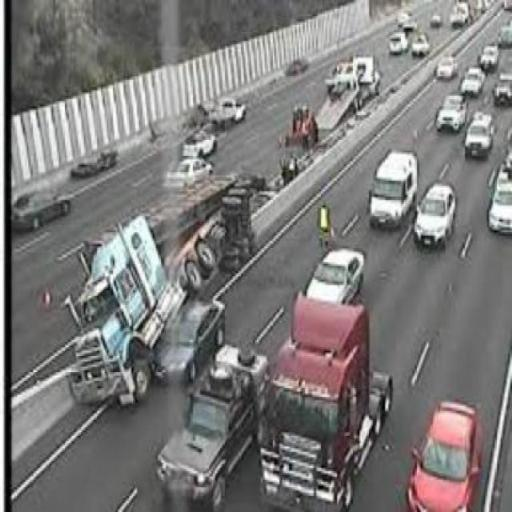小汽车: (260, 302, 392, 509), (153, 356, 265, 502), (402, 394, 488, 512), (305, 236, 367, 306), (371, 143, 416, 224), (12, 177, 74, 234), (412, 183, 462, 247), (156, 159, 220, 190), (462, 106, 499, 158), (430, 90, 468, 134), (488, 174, 512, 238), (431, 49, 460, 80), (387, 25, 409, 56), (478, 42, 500, 70)
小汽车撞小汽车: (76, 198, 224, 402)
